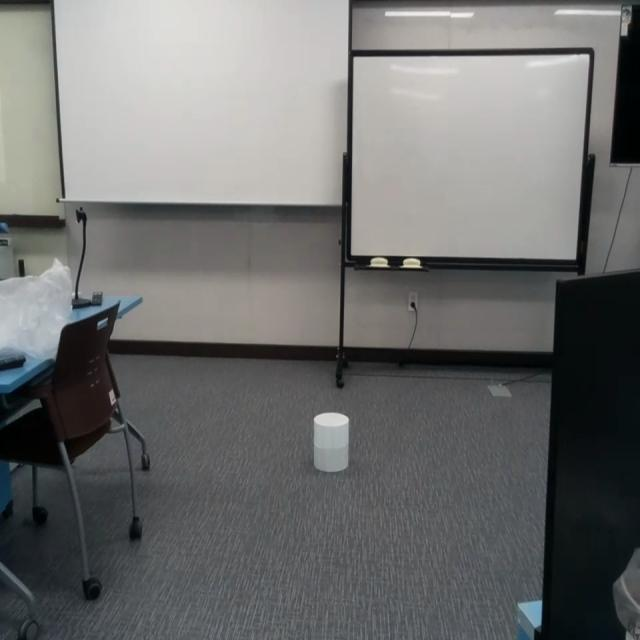cylinder: (313, 411, 350, 473)
